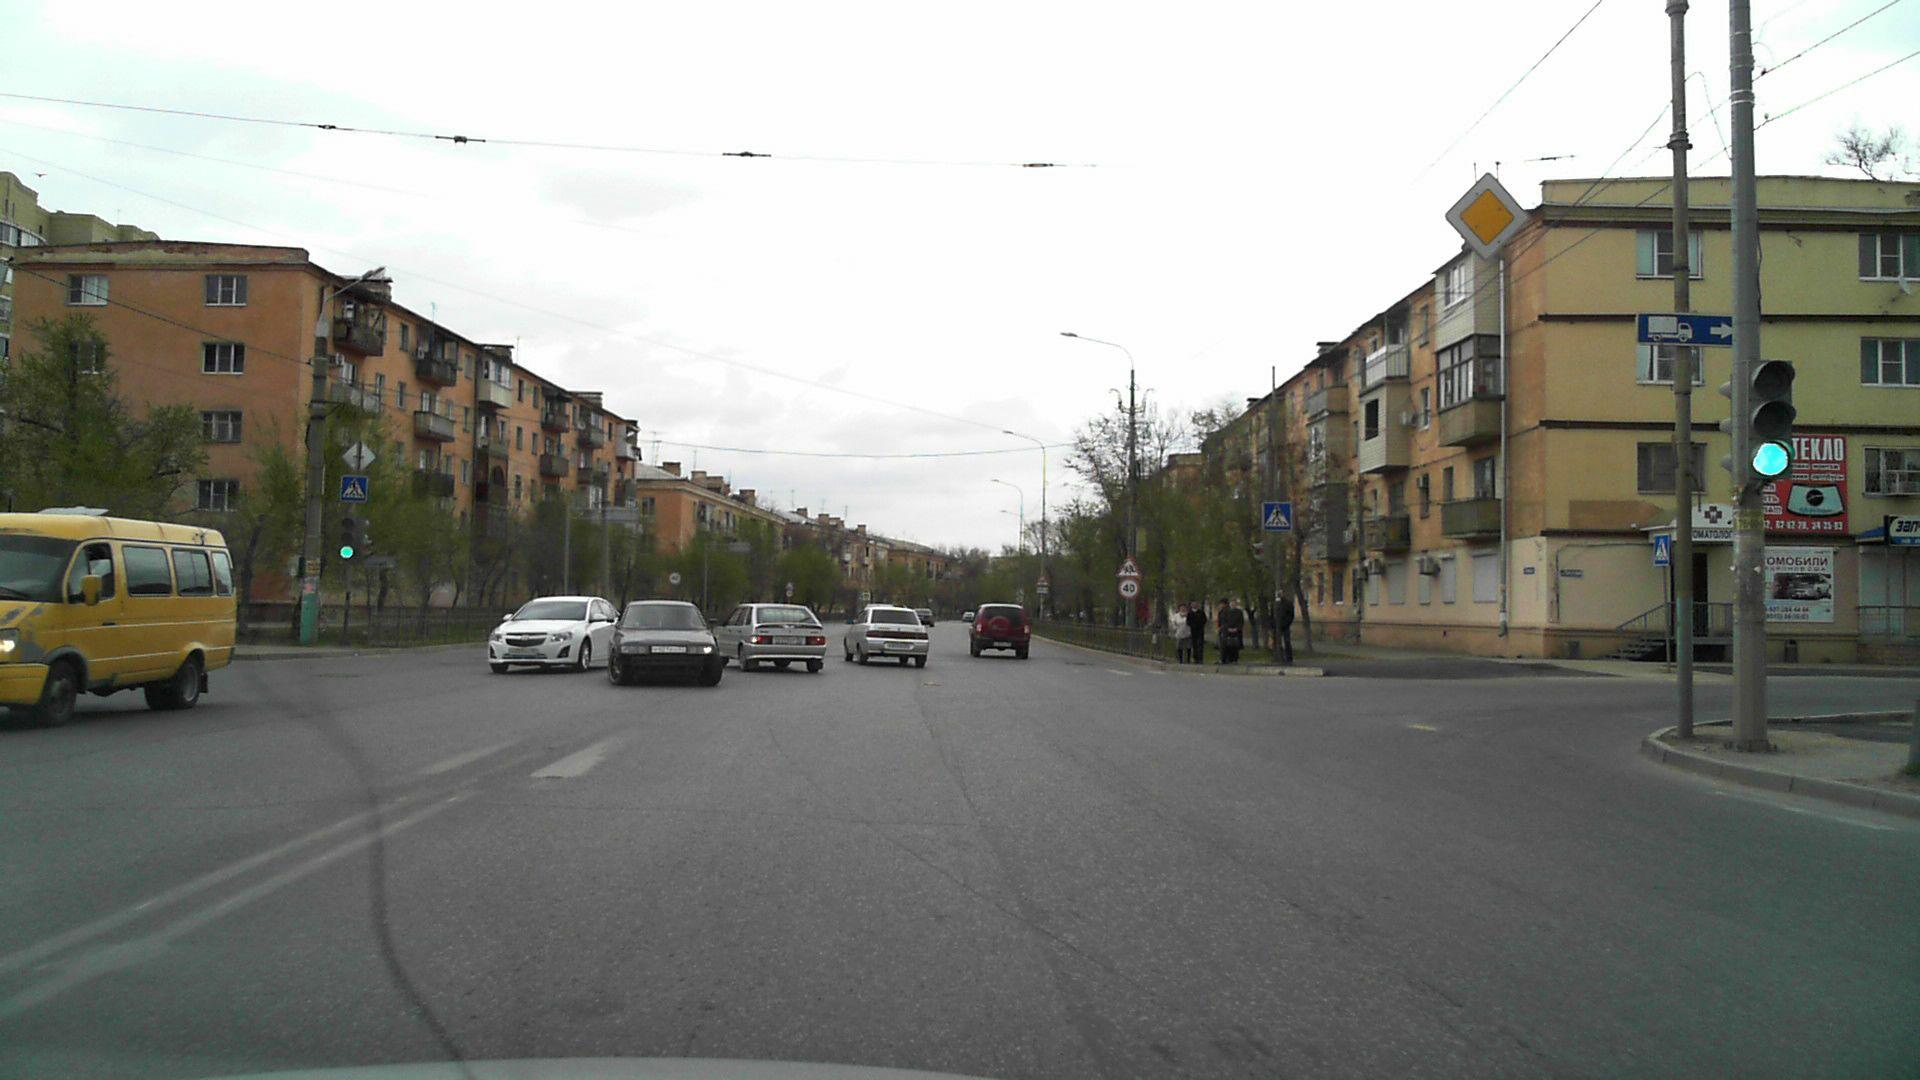1_23: (1116, 553, 1142, 578), (1035, 574, 1048, 587), (783, 582, 795, 591)
2_1: (1443, 174, 1532, 258)
3_24: (1117, 578, 1141, 599), (670, 571, 682, 584), (785, 591, 793, 597)
5_19_1: (1265, 501, 1291, 530)
5_19_2: (344, 476, 365, 500), (1656, 537, 1669, 562)
6_15_2: (1634, 311, 1729, 345)
8_5_4: (1036, 587, 1051, 592)
